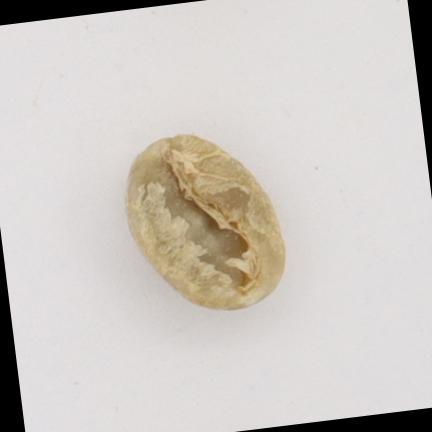husk: (125, 134, 284, 307)
